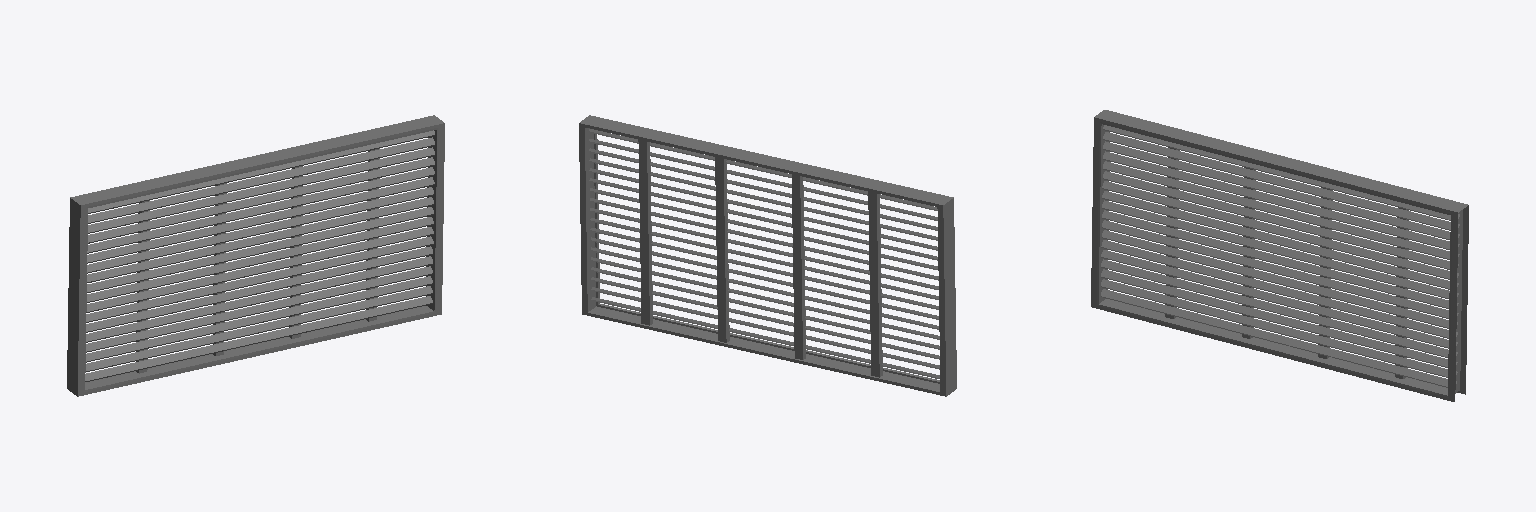
Rendered from DoorV.obj.
The picture shows the model from 3 angles: view 1: azimuth 30°, elevation 25°; view 2: azimuth 150°, elevation 25°; view 3: azimuth 330°, elevation 25°; orthographic projection.
Parts seen in each view (by area): view 1: DoorV_Group14767; view 2: DoorV_Group14767; view 3: DoorV_Group14767.
Part boxes in pixels (x1,y1,x2,y2): DoorV_Group14767: (67, 115, 444, 396); DoorV_Group14767: (579, 115, 956, 396); DoorV_Group14767: (1091, 110, 1468, 401).
Bounding box in the file's own units: 2 × 1.03 × 0.1011.